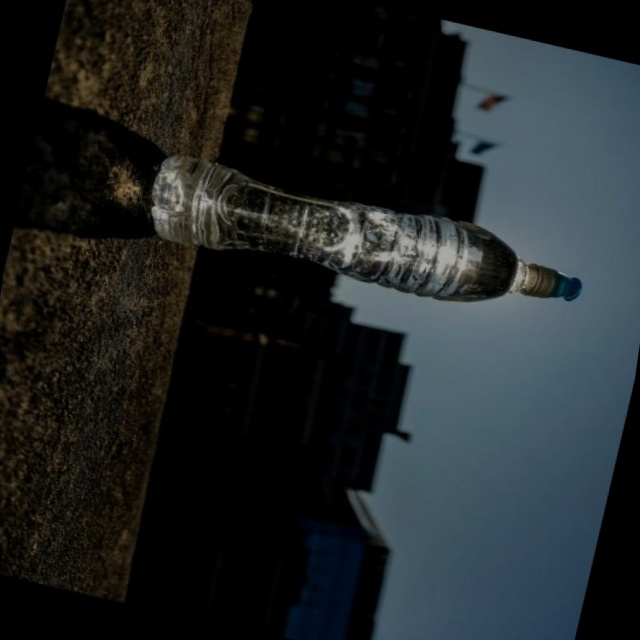Plastic-bottle: (113, 180, 580, 287)
